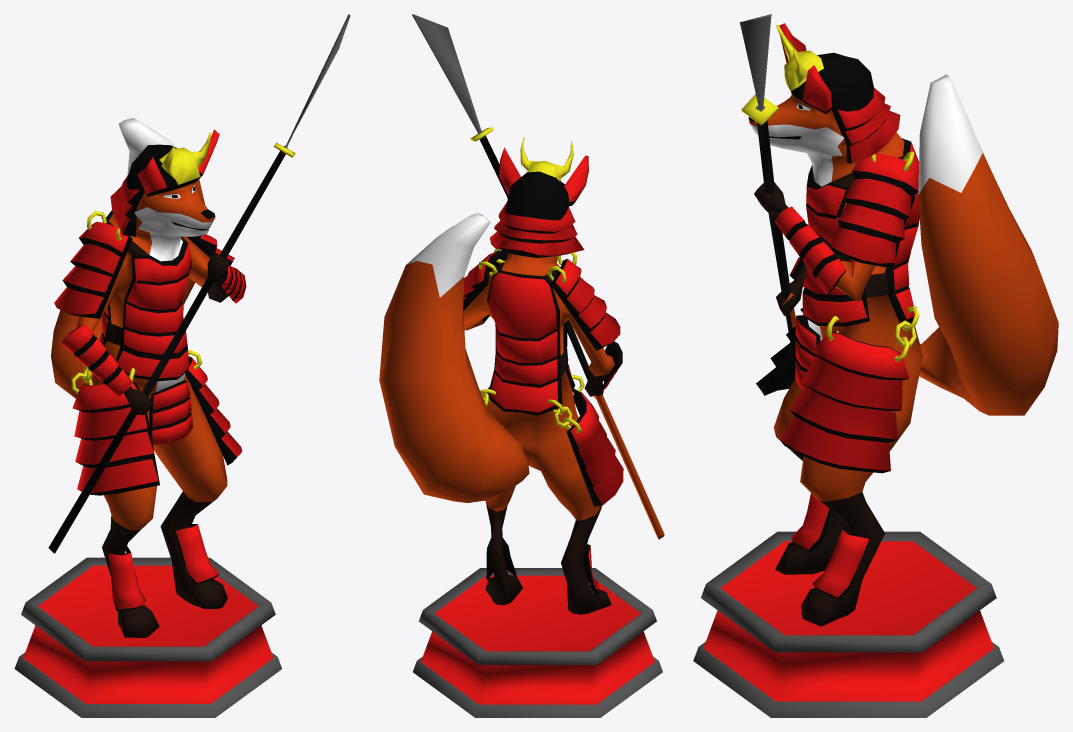
File: drachenkrieger.FBX
3 views of the same model, side by side, from view 1: azimuth 30°, elevation 25°; view 2: azimuth 150°, elevation 25°; view 3: azimuth 270°, elevation 25° (orthographic). The views are drawn at different scales.
Parts seen in each view (by area): view 1: drachenkrieger; view 2: drachenkrieger; view 3: drachenkrieger.
Boxes of the visible parts, left/top/right/bottom form: drachenkrieger: left=14, top=14, right=350, bottom=717; drachenkrieger: left=379, top=14, right=664, bottom=717; drachenkrieger: left=693, top=14, right=1058, bottom=717.
Size of the model in its own units: 117 by 250 by 111.
